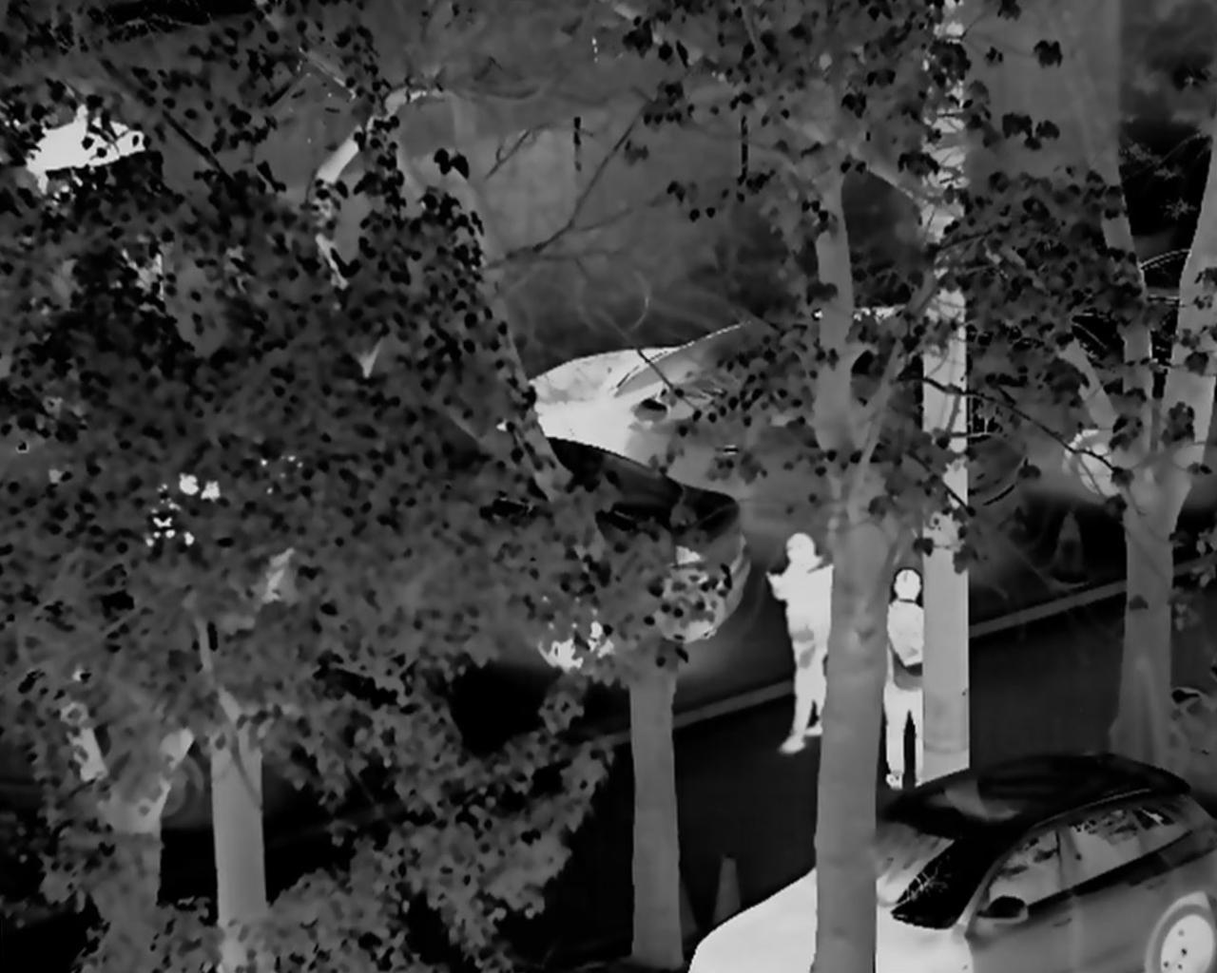person: (752, 525, 847, 758), (864, 557, 942, 800)
